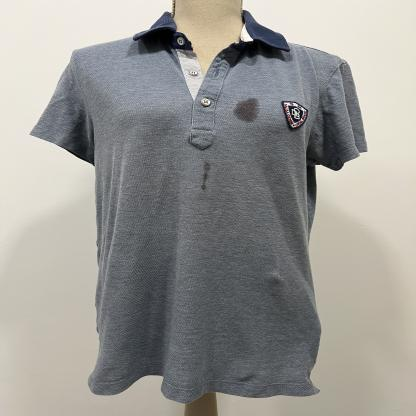stain: (231, 96, 264, 125), (197, 159, 213, 192)
